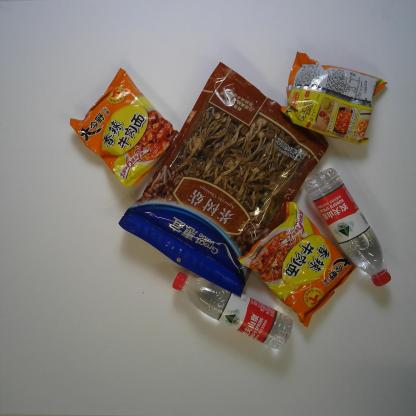Dried Food: (118, 61, 329, 298)
Drink: (304, 167, 392, 288), (171, 271, 294, 351)
Instant Noodles: (236, 201, 358, 330), (70, 68, 180, 188), (281, 51, 388, 145)
